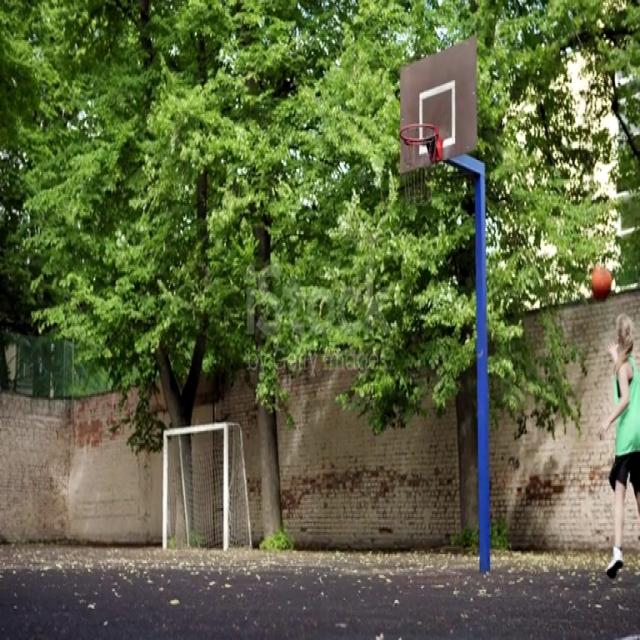ball: (592, 265, 612, 302)
